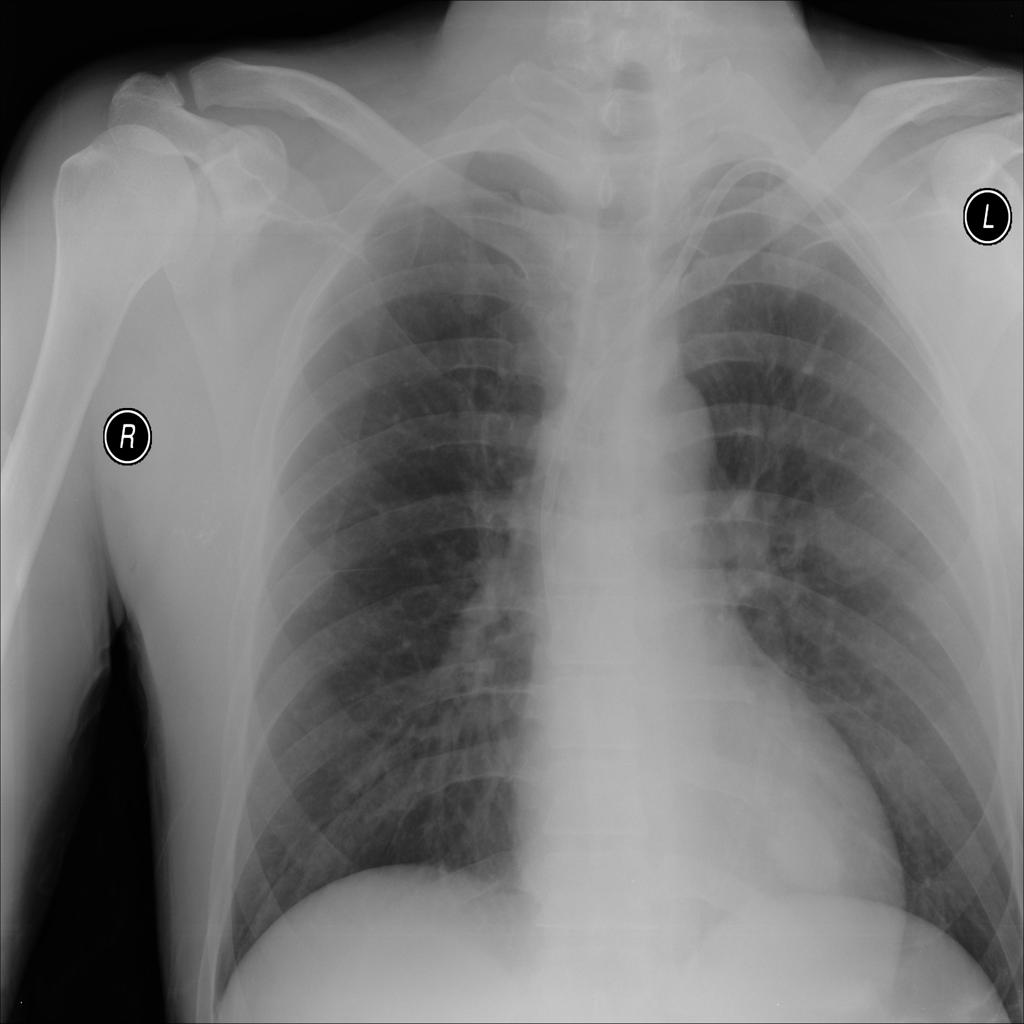nodule: (749, 793, 861, 903)
